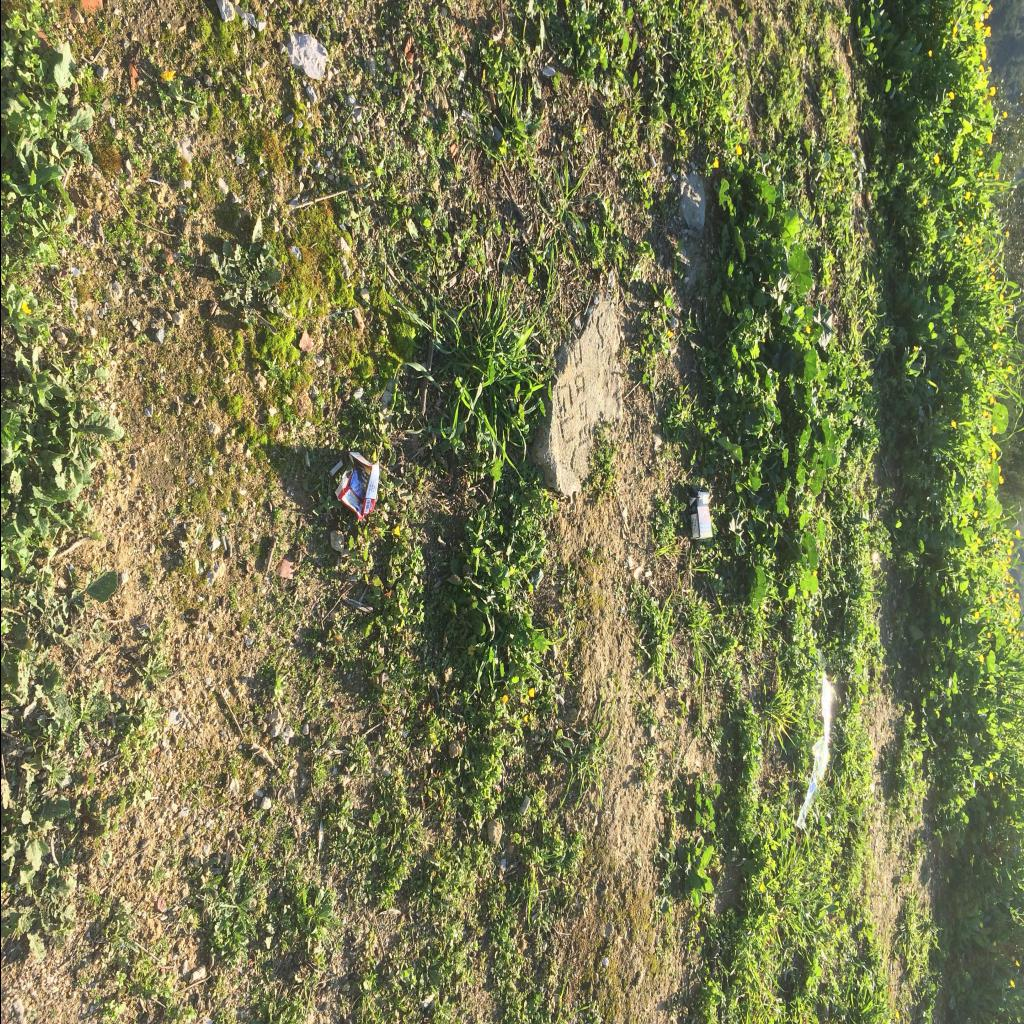Cigarette: (328, 460, 342, 476)
Other carton: (334, 452, 378, 520), (688, 486, 712, 540)
Plastic film: (794, 673, 832, 828)
